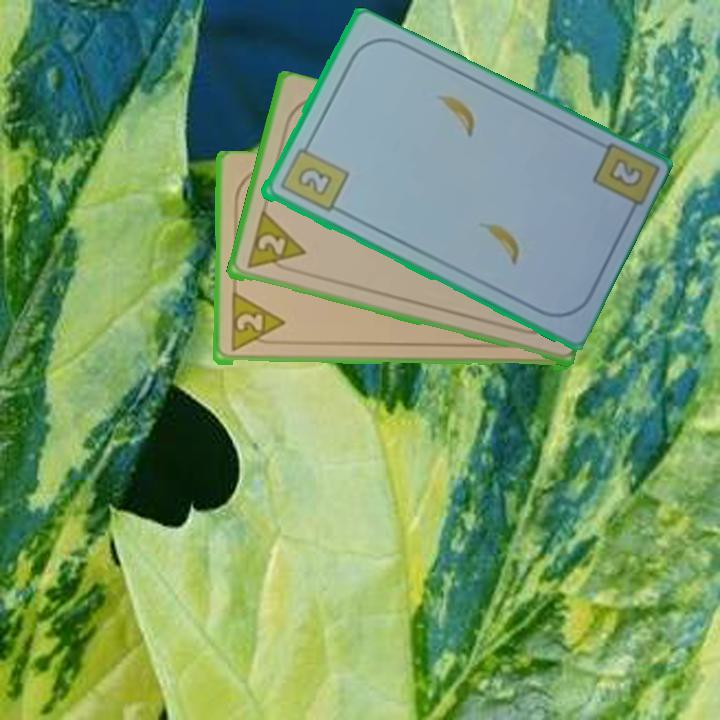2b: (275, 138, 351, 215), (604, 154, 646, 191)
2p: (242, 210, 308, 275), (227, 292, 286, 355)
